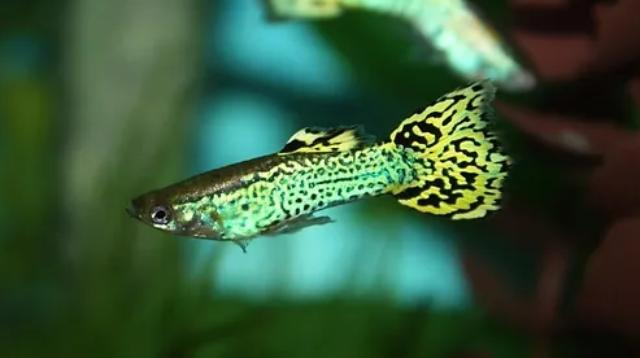Mulut: (107, 184, 157, 242)
Sirip Anal: (282, 205, 352, 238)
Sirip Ekor: (378, 73, 526, 247)
Sirip Punggung: (268, 116, 390, 176)
